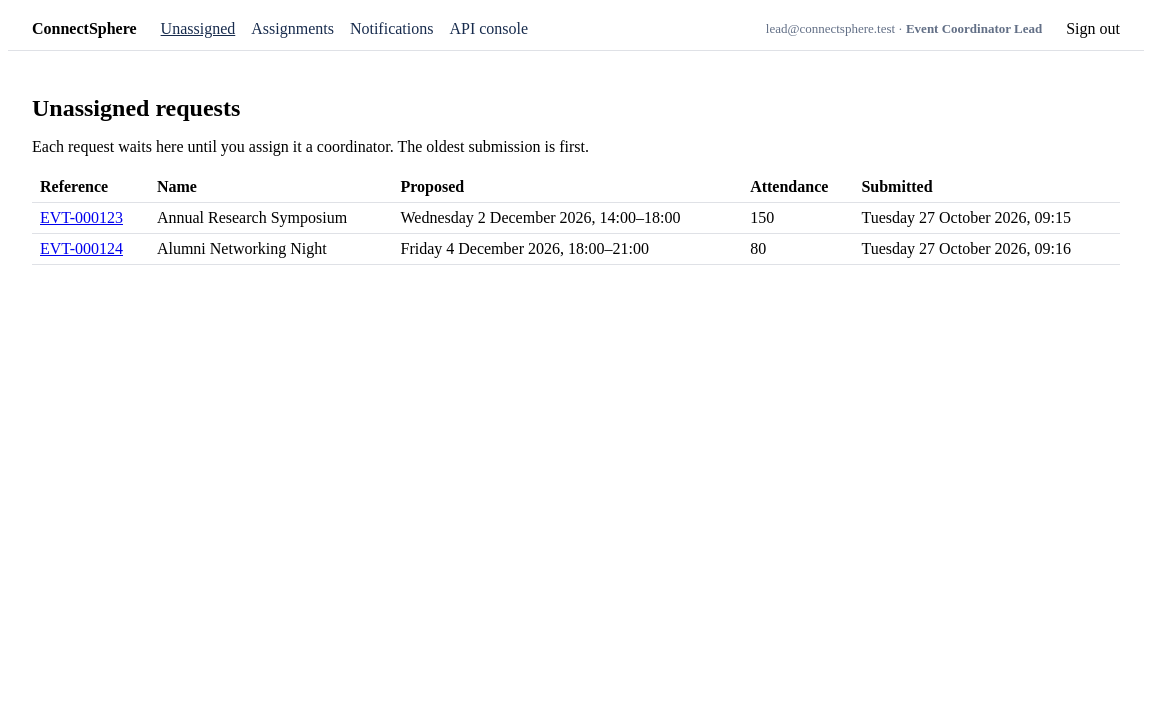
it: assigning a request (E3-T3, E3-T4) › shows the request's basic information and that it is unassigned
Click the link "EVT-000123" at x=82, y=217, box [40, 209, 123, 226]
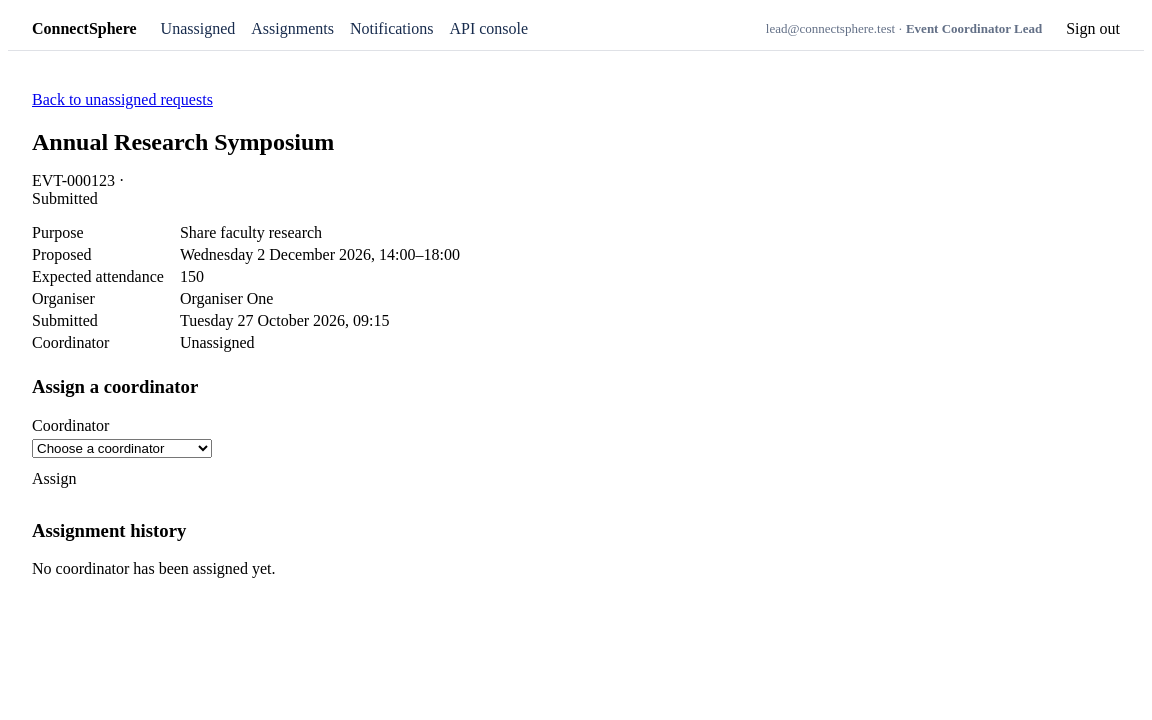
Expected: the text "EVT-000123" is shown, [32, 172, 115, 189]
Now the text "Share faculty research" is shown, box [180, 224, 322, 241]
Now the text "Organiser One" is shown, box [180, 290, 273, 307]
